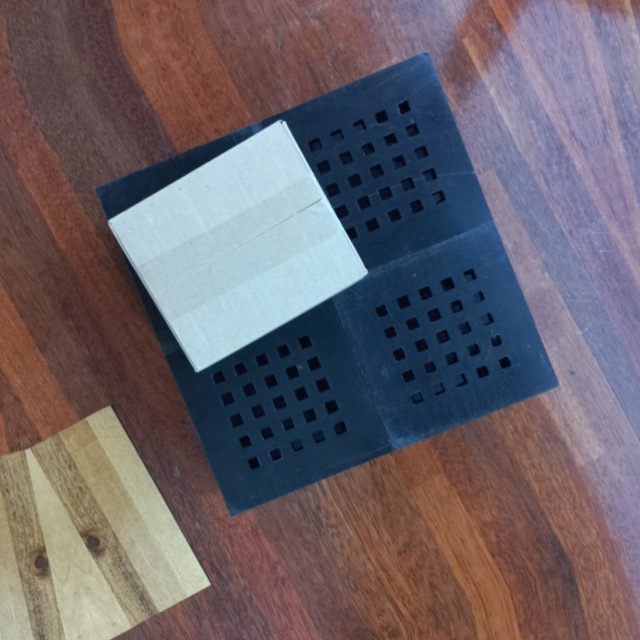box: (97, 117, 368, 378)
pallet: (92, 43, 572, 523)
